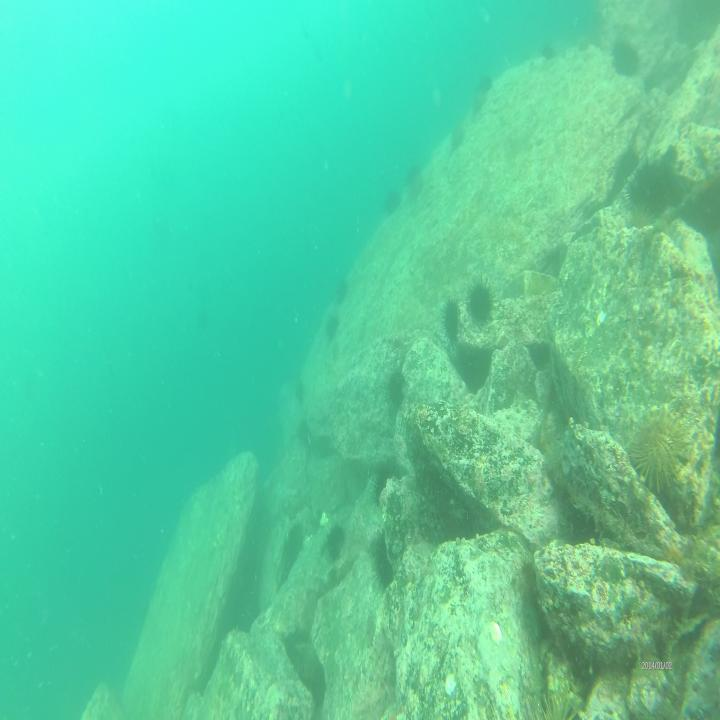echinus: (629, 408, 688, 494), (625, 151, 672, 220), (464, 274, 498, 326), (371, 526, 398, 587), (612, 36, 639, 78), (324, 523, 348, 563), (385, 366, 409, 404), (442, 296, 462, 341), (450, 119, 467, 151), (384, 183, 399, 216), (470, 88, 485, 115), (477, 69, 492, 94), (325, 310, 338, 338), (334, 280, 348, 303)
